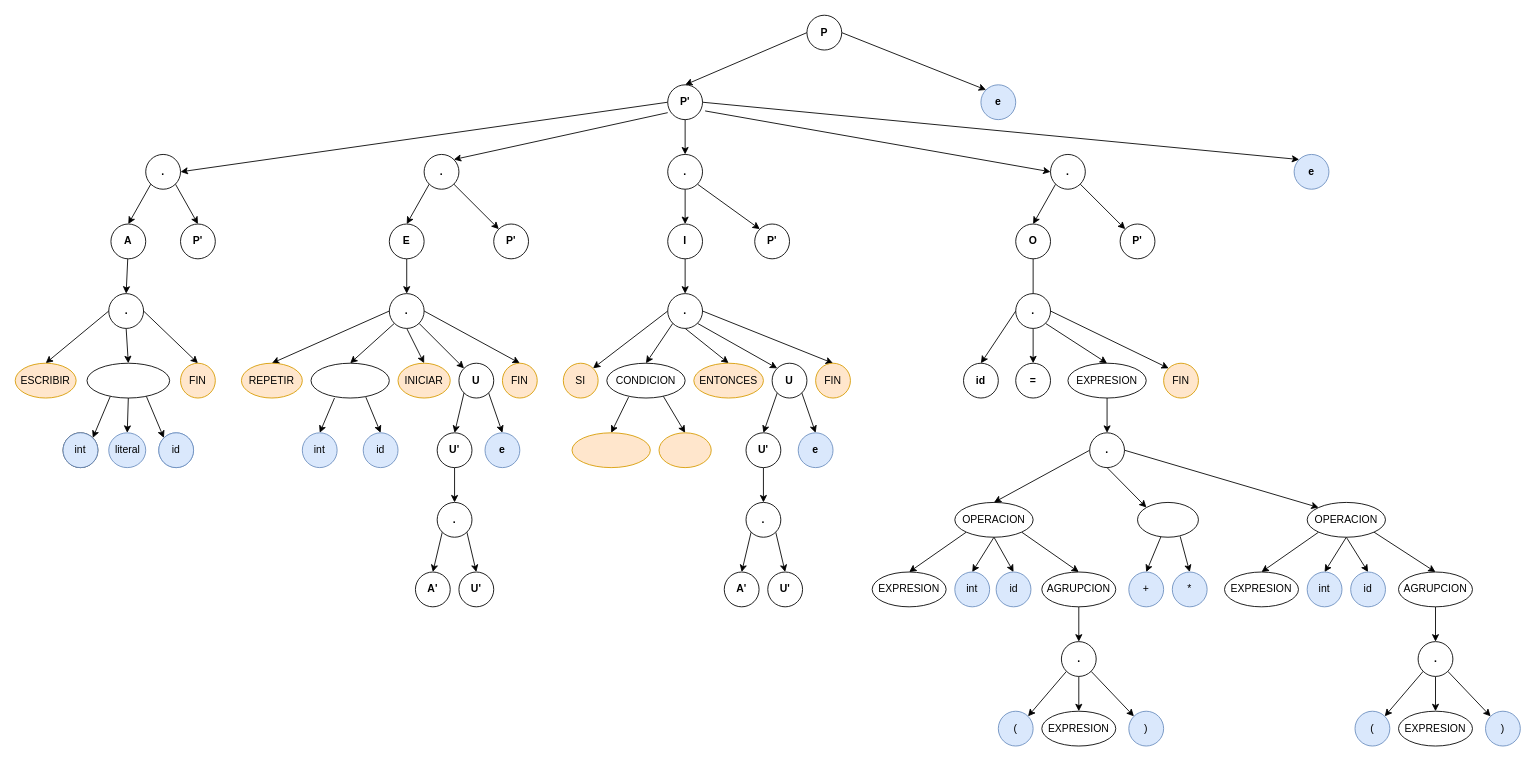
Some shapes in this 1536 by 761 pixel diagram are drawn without their labels. Each missing label, with the centre of its shape:
"ESCRIBIR-TKN" goes at pixel 128 380.
"FALSO" goes at pixel 684 450.
"REPETIR-TKN" goes at pixel 349 380.
"SIMBOLO" goes at pixel 1167 519.
"VERDADERO" goes at pixel 610 450.
